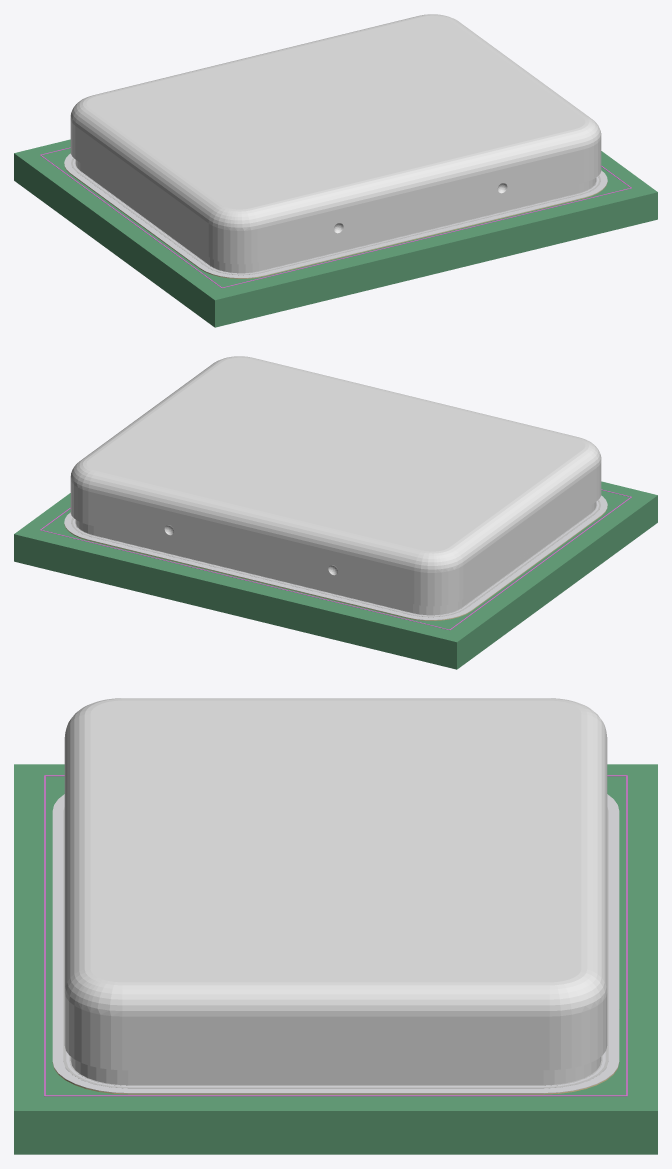
The model's file is head.glb.
3 renders of one model, top to bottom at view 1: azimuth 30°, elevation 25°; view 2: azimuth 150°, elevation 25°; view 3: azimuth 270°, elevation 25°, orthographic. The views are drawn at different scales.
Parts seen in each view (by area): view 1: model_2_0_MS233-10C, PCB, model_1_0_MS233-10F, F.Paste, F.Fab, F.CrtYd, F.Cu; view 2: model_2_0_MS233-10C, PCB, model_1_0_MS233-10F, F.Paste, F.Fab, F.CrtYd, F.Cu; view 3: model_2_0_MS233-10C, PCB, F.Paste, model_1_0_MS233-10F, F.Fab, F.CrtYd, F.Cu.
Part boxes in pixels (x1=…): model_2_0_MS233-10C: x1=70, y1=14, x2=601, y2=264; PCB: x1=14, y1=139, x2=657, y2=327; model_1_0_MS233-10F: x1=75, y1=160, x2=596, y2=273; F.Paste: x1=64, y1=153, x2=607, y2=278; F.Fab: x1=71, y1=158, x2=600, y2=275; F.CrtYd: x1=40, y1=147, x2=631, y2=288; F.Cu: x1=64, y1=164, x2=607, y2=278; model_2_0_MS233-10C: x1=70, y1=356, x2=601, y2=606; PCB: x1=14, y1=481, x2=657, y2=669; model_1_0_MS233-10F: x1=75, y1=502, x2=596, y2=615; F.Paste: x1=64, y1=495, x2=607, y2=620; F.Fab: x1=71, y1=500, x2=600, y2=617; F.CrtYd: x1=40, y1=489, x2=631, y2=630; F.Cu: x1=64, y1=506, x2=607, y2=620; model_2_0_MS233-10C: x1=64, y1=698, x2=607, y2=1070; PCB: x1=14, y1=764, x2=657, y2=1154; F.Paste: x1=52, y1=794, x2=619, y2=1093; model_1_0_MS233-10F: x1=70, y1=1056, x2=601, y2=1085; F.Fab: x1=63, y1=807, x2=608, y2=1088; F.CrtYd: x1=44, y1=775, x2=627, y2=1096; F.Cu: x1=52, y1=1062, x2=619, y2=1094.
Bounding box in the file's own units: 27.05 × 5.13 × 21.25.
